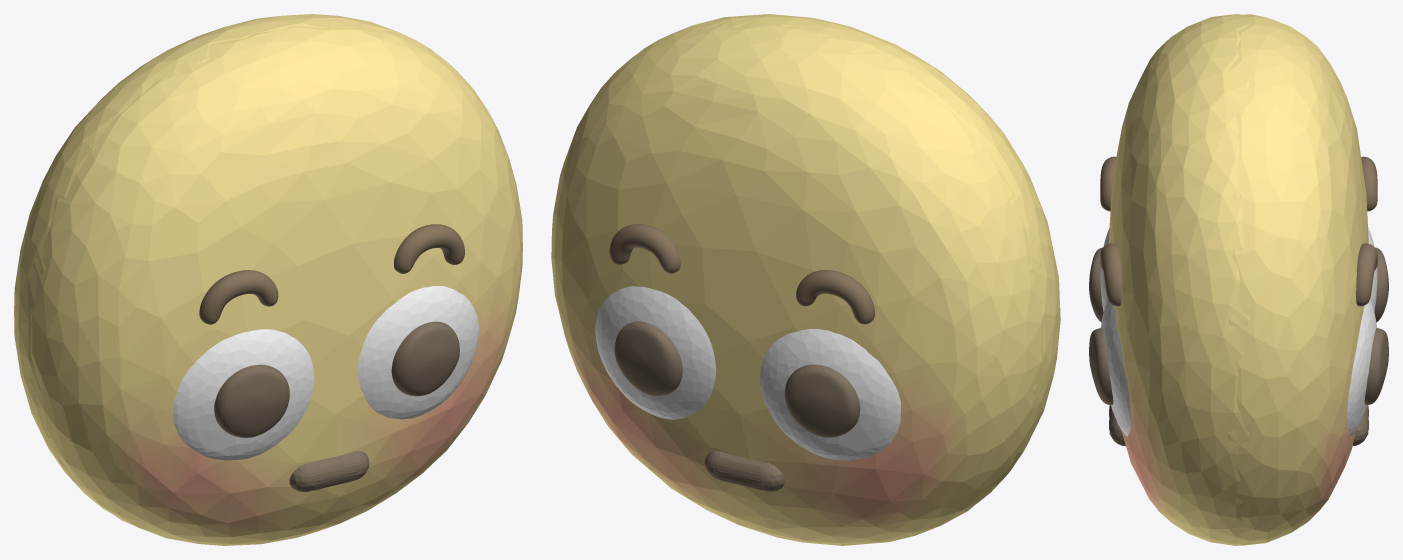
File: ShyEmoji.glb
3 renders of one model, left to right at view 1: azimuth 30°, elevation 25°; view 2: azimuth 150°, elevation 25°; view 3: azimuth 270°, elevation 25°, orthographic. The views are drawn at different scales.
Parts seen in each view (by area): view 1: Sphere 1, Sphere (×4), Tube (×2), Cylinder (×2); view 2: Sphere 1, Sphere 2 (×2), Sphere 3 (×2), Tube 1 (×2), Cylinder 1 (×2); view 3: Sphere 1, Sphere (×3), Sphere 2, Sphere 3 (×2), Tube 1 (×2), Tube (×2).
Boxes of the visible parts, x1,y1,x2,y2 form: Sphere 1: (14,14,522,545); Sphere (×4): (173,286,478,460); Tube (×2): (199,224,464,324); Cylinder (×2): (289,451,369,492); Sphere 1: (551,14,1060,545); Sphere 2 (×2): (595,286,900,460); Sphere 3 (×2): (614,321,860,437); Tube 1 (×2): (609,224,874,324); Cylinder 1 (×2): (705,451,784,491); Sphere 1: (1108,14,1368,545); Sphere (×3): (1089,247,1130,435); Sphere 2: (1347,299,1377,435); Sphere 3 (×2): (1364,247,1388,404); Tube 1 (×2): (1356,156,1377,306); Tube (×2): (1100,156,1121,306).
Size of the model in its own units: 0.6052 by 0.6057 by 0.3471.
